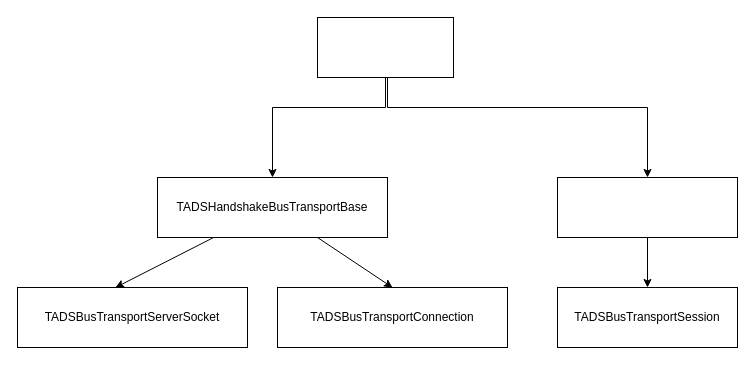
Some shapes in this 755 by 365 pixel diagram are drawn without their labels. Here are the shapes that lost their labels. From the top down, the centre of each, then its label:
At point (385, 47): "TADSBusTransportBase".
At point (647, 207): "TADSSessionBusTransportBase".
